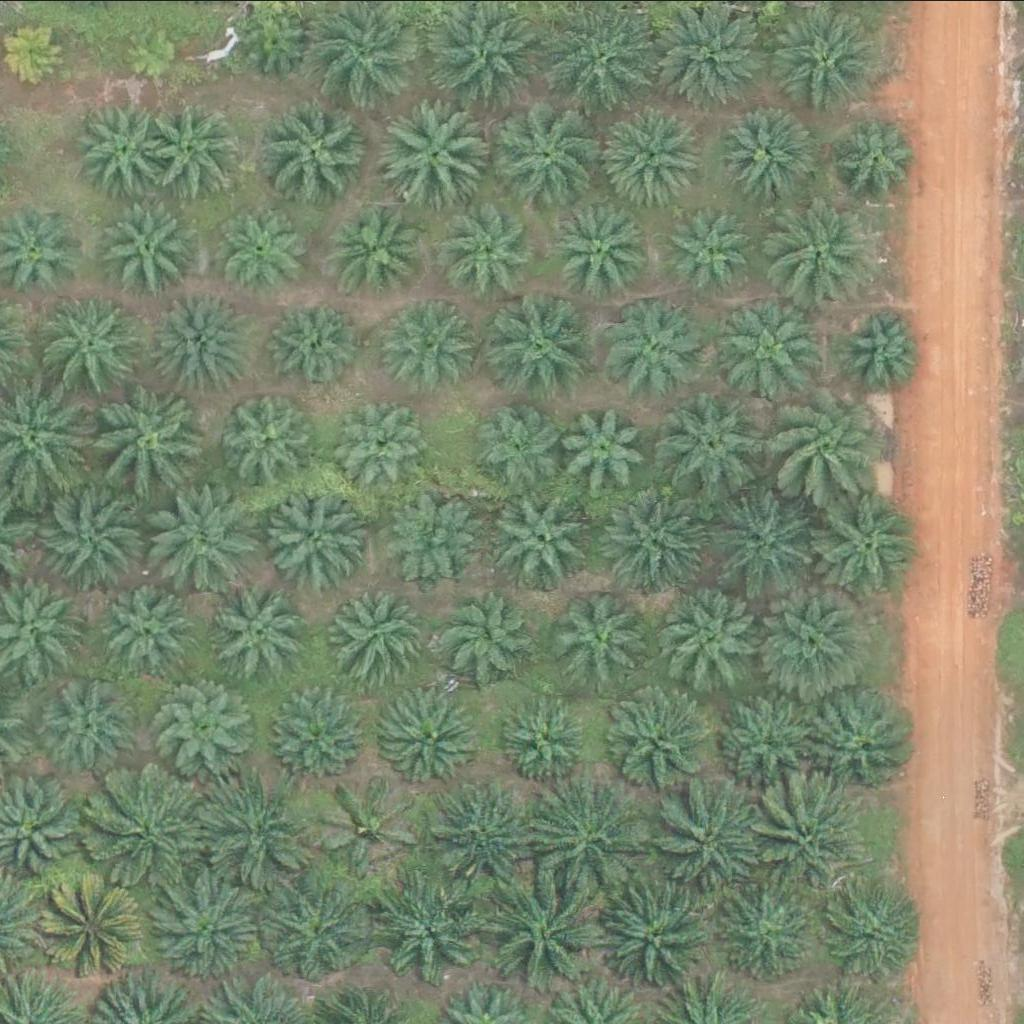Kelapa_Sawit: (768, 377, 894, 502), (256, 94, 370, 207), (596, 878, 710, 991), (384, 101, 497, 214), (36, 479, 149, 592), (605, 485, 718, 598), (706, 485, 819, 598), (813, 489, 926, 602), (650, 784, 763, 897), (421, 781, 534, 894), (201, 777, 314, 890), (89, 773, 202, 886), (490, 879, 603, 992), (769, 4, 883, 116), (153, 481, 267, 593), (535, 782, 649, 894), (547, 1, 660, 113), (491, 99, 604, 211), (765, 189, 878, 301), (92, 387, 205, 499), (657, 390, 770, 502), (761, 581, 874, 693), (807, 687, 920, 799), (755, 782, 868, 894), (369, 874, 482, 986), (72, 98, 173, 198), (717, 100, 818, 200), (101, 197, 202, 297), (325, 197, 426, 297), (442, 195, 543, 295), (553, 199, 654, 299), (41, 291, 142, 391), (374, 294, 475, 394), (493, 295, 594, 395), (602, 298, 703, 398), (214, 386, 315, 486), (269, 486, 370, 586), (498, 482, 599, 582), (211, 581, 312, 681), (331, 589, 432, 689), (431, 584, 532, 684), (663, 588, 764, 688), (266, 683, 367, 783), (382, 686, 483, 786), (608, 687, 709, 787), (155, 885, 256, 985), (267, 883, 368, 983), (720, 879, 821, 979), (829, 882, 930, 982), (600, 101, 700, 201), (156, 295, 256, 395), (725, 293, 825, 393), (381, 490, 481, 590), (161, 680, 261, 780), (710, 686, 810, 786), (317, 774, 417, 874), (49, 879, 149, 979), (223, 206, 312, 294), (152, 101, 240, 189), (840, 111, 928, 199), (267, 301, 355, 389), (507, 696, 595, 784), (668, 200, 757, 287), (840, 305, 928, 392), (335, 401, 423, 488), (476, 401, 564, 488), (564, 404, 652, 491), (106, 582, 194, 669), (559, 593, 647, 680), (51, 680, 139, 767), (123, 20, 186, 82)
